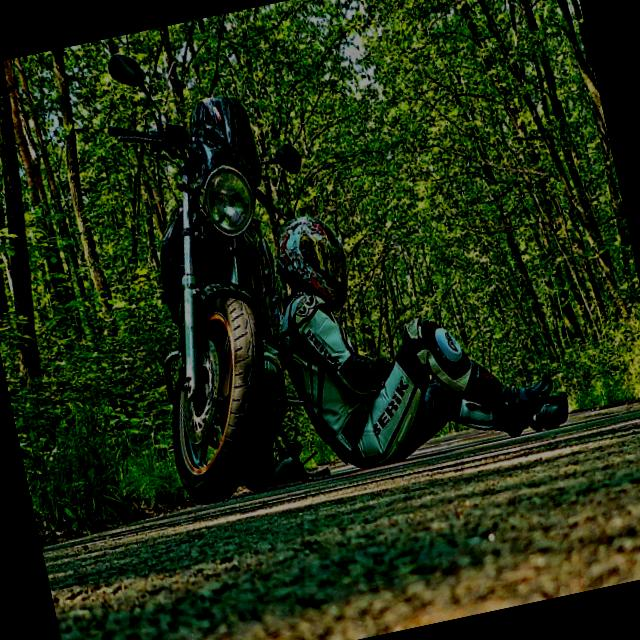Vehicle: (83, 18, 370, 514)
